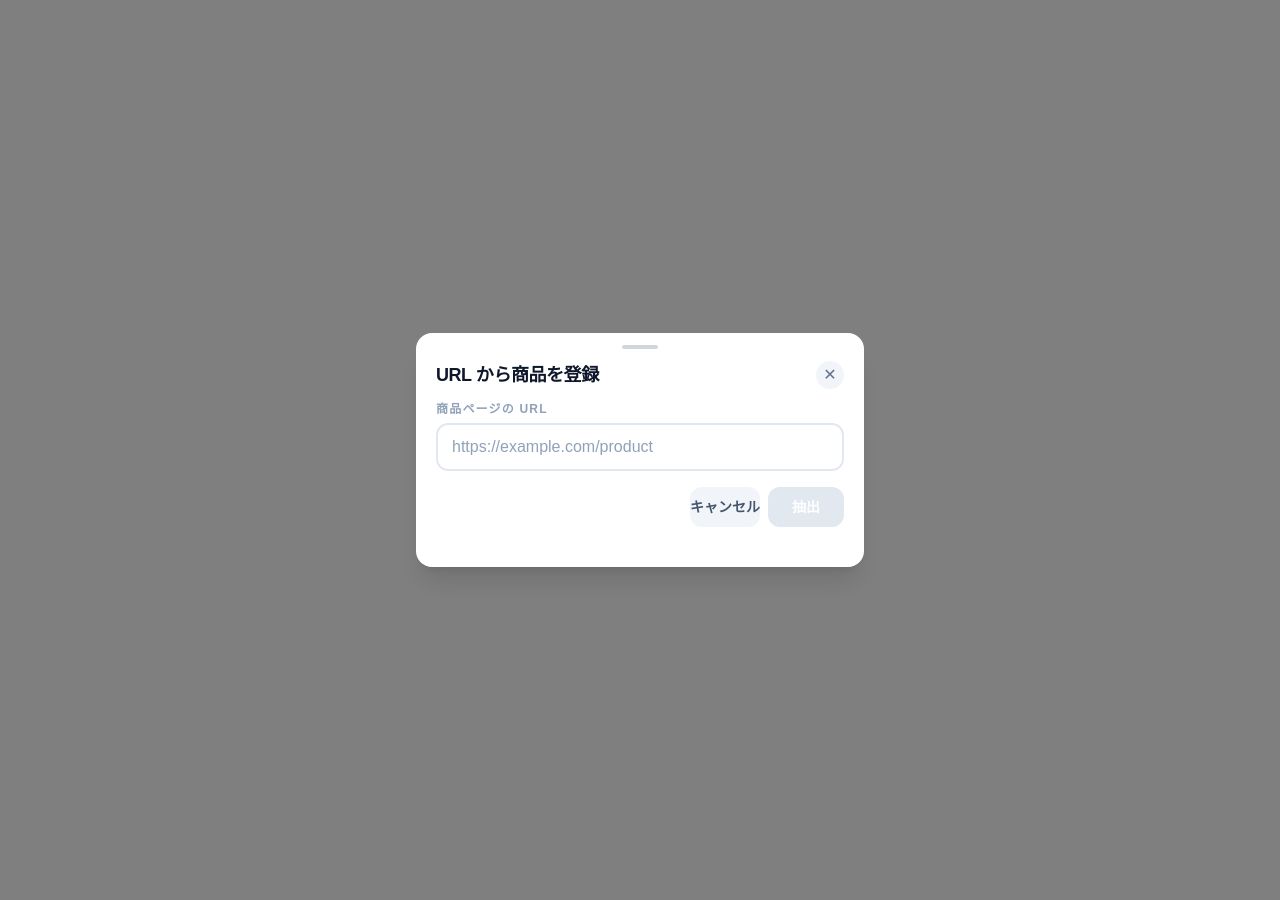
Scenario: UrlRegistrationModal › badRequest エラーで「有効な URL を入力してください」が表示される（再試行ボタンなし）
The image size is (1280, 900).
Step 1. Type "https://example.invalid" into the field labelled "商品ページの URL" → coordinates (640, 447), box [436, 423, 844, 471]
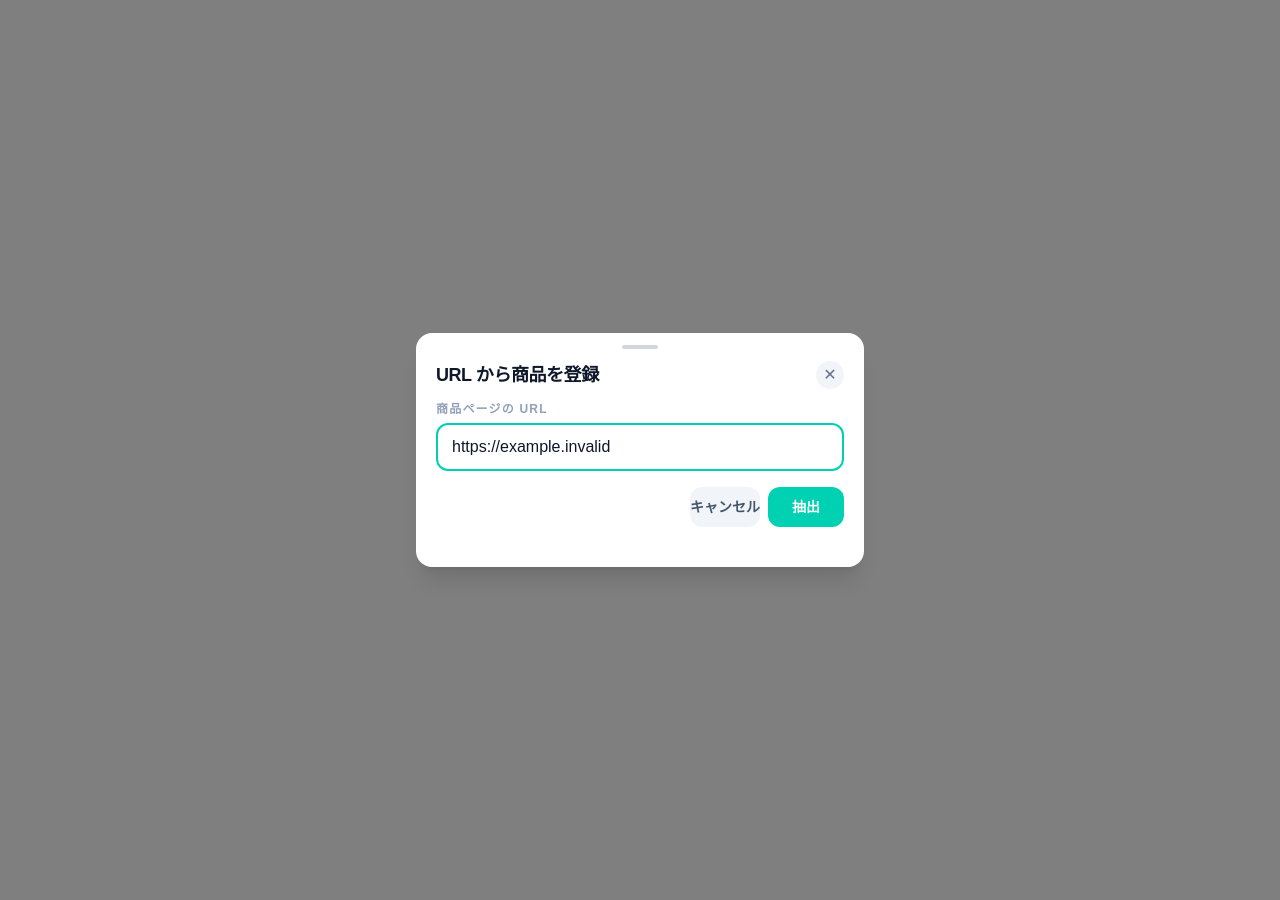
Step 2. Click the button "抽出" → coordinates (806, 507), box [768, 487, 844, 527]
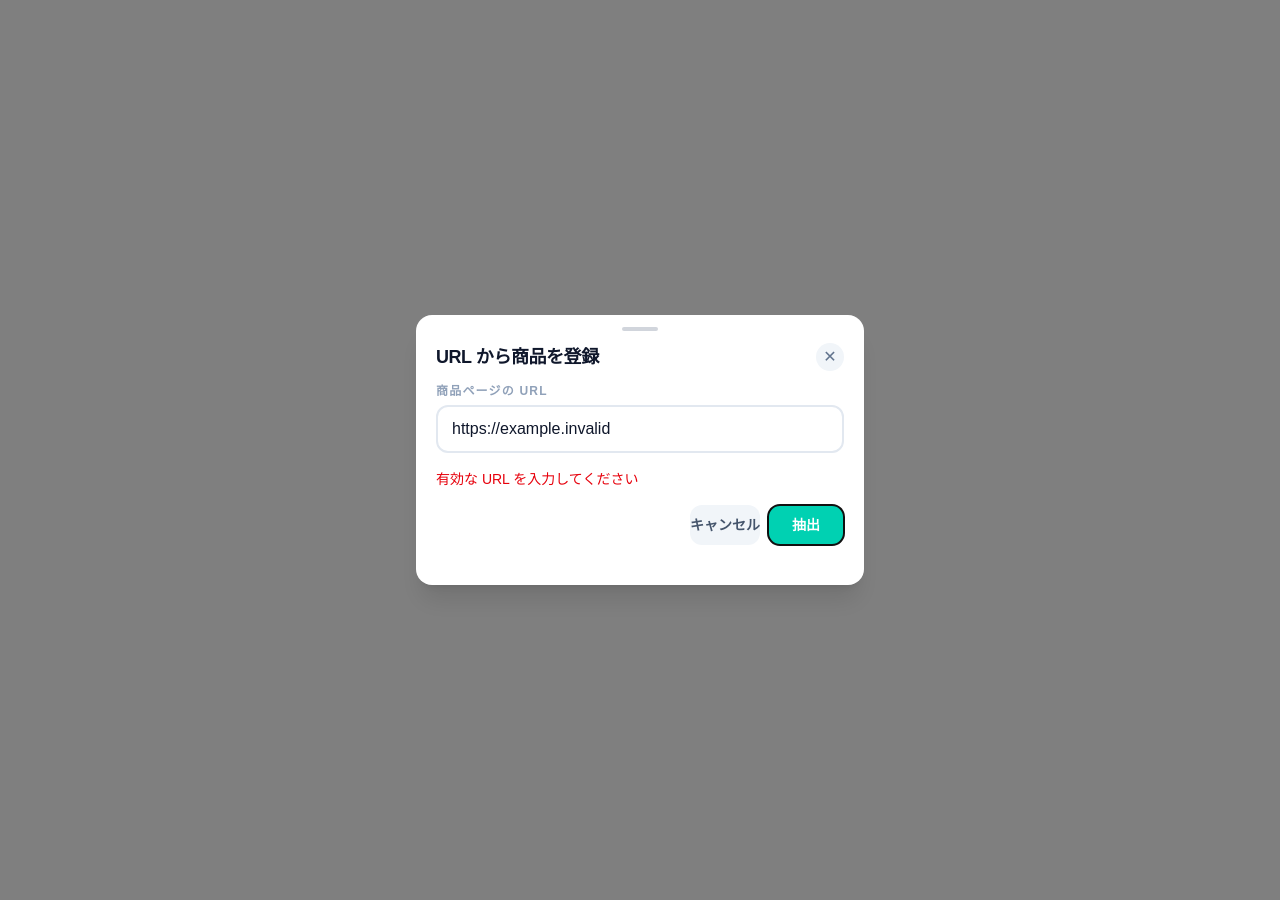
Expected: the text "有効な URL を入力してください" is shown, [436, 471, 638, 487]
